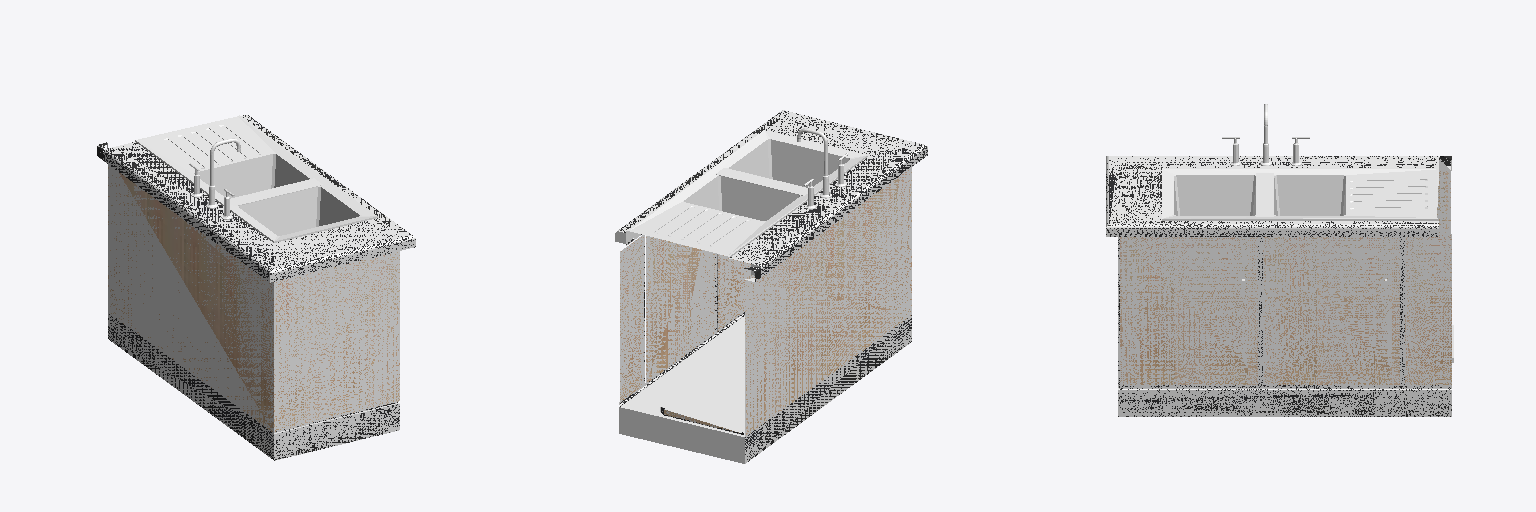
3 renders of one model, left to right at view 1: azimuth 30°, elevation 25°; view 2: azimuth 150°, elevation 25°; view 3: azimuth 270°, elevation 25°, orthographic.
Bounding box in the file's own units: 0.705 × 1.2 × 1.46.
6 materials, 2 textured.